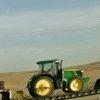Tractor: (22, 56, 85, 100)
